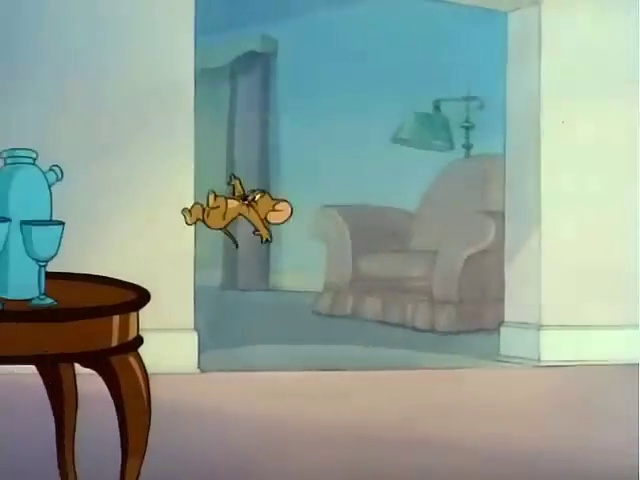jerry: (166, 158, 310, 254)
